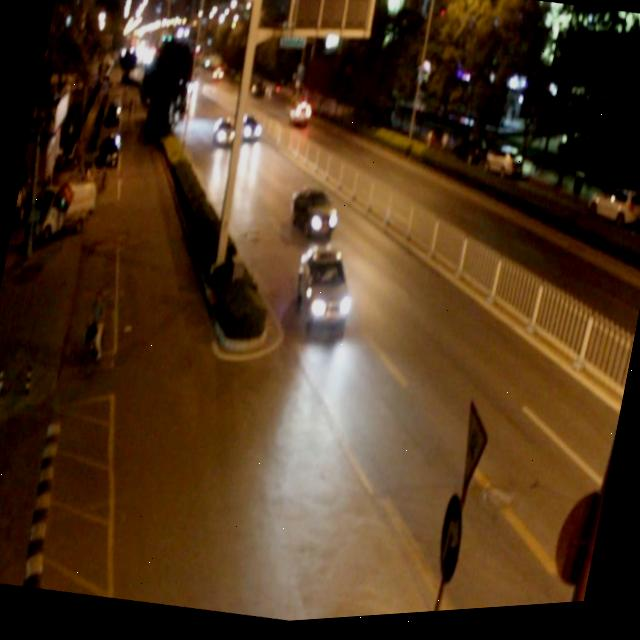car: (286, 243, 361, 341), (286, 186, 342, 249), (230, 113, 264, 149), (208, 117, 238, 153), (286, 99, 314, 133)
